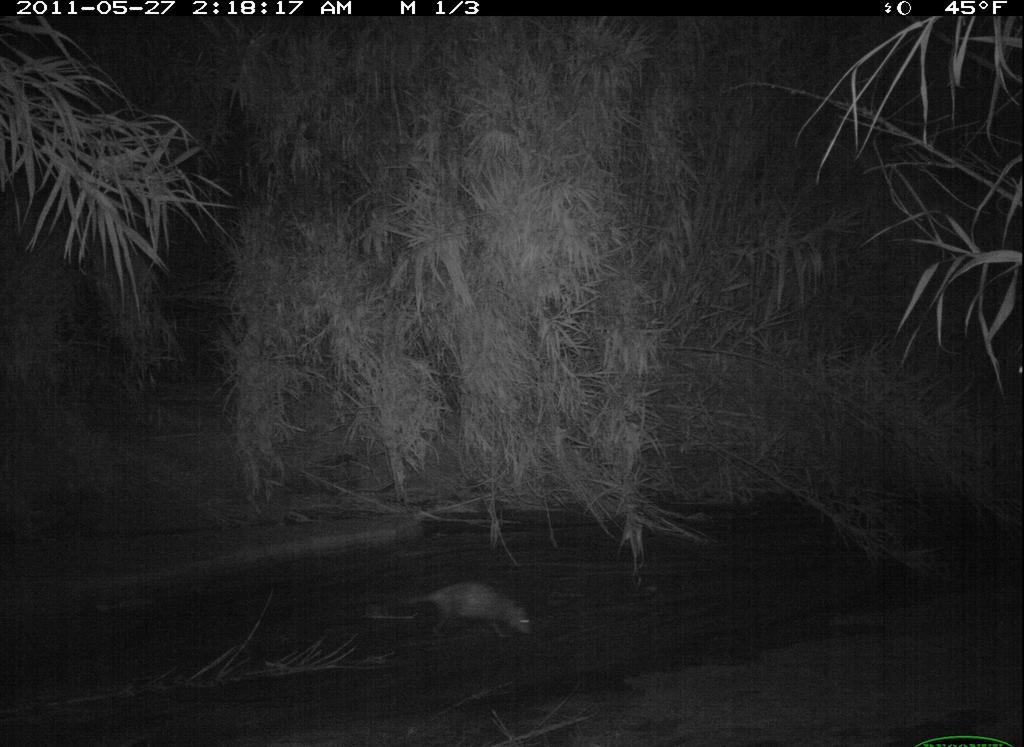opossum: (381, 577, 545, 660)
